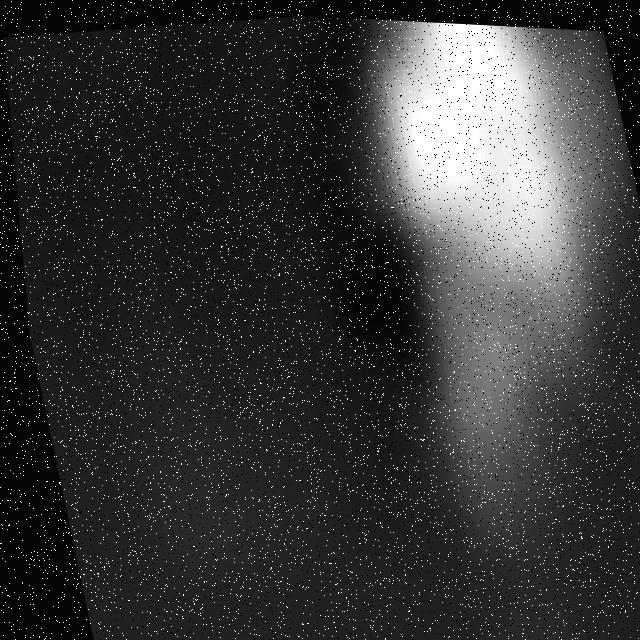person: (322, 14, 640, 541)
